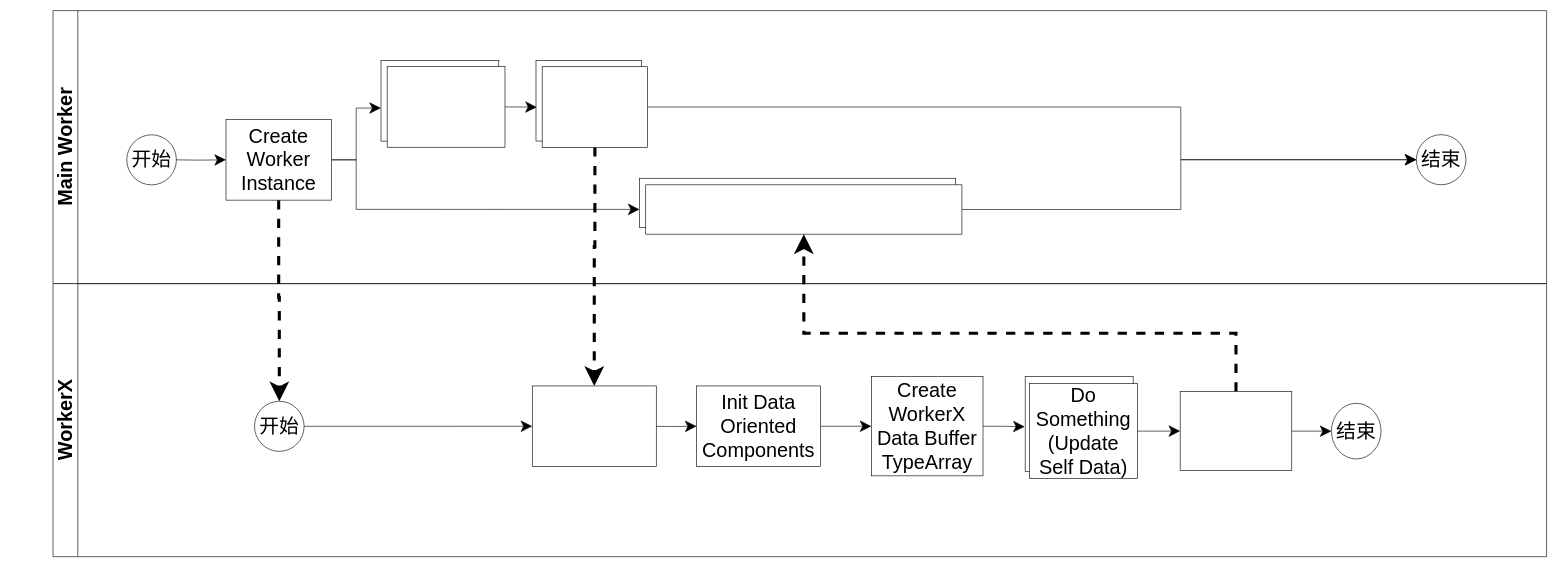
Image size: 1557x568. Some labels were removed from this diagram. The centre of each missing label's shape, as x and y in pixels:
"Create WokerX Data Buffer" belongs at [446,106].
"Get Finish Send Init WorkerX Data" belongs at [803,209].
"Get Init WorkerX Data" belongs at [594,426].
"Send FInish Init Render Data" belongs at [1236,431].
"Send Init WorkerX Data" belongs at [595,106].
